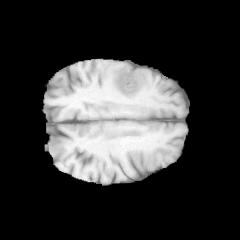glioma: (112, 66, 145, 98)
